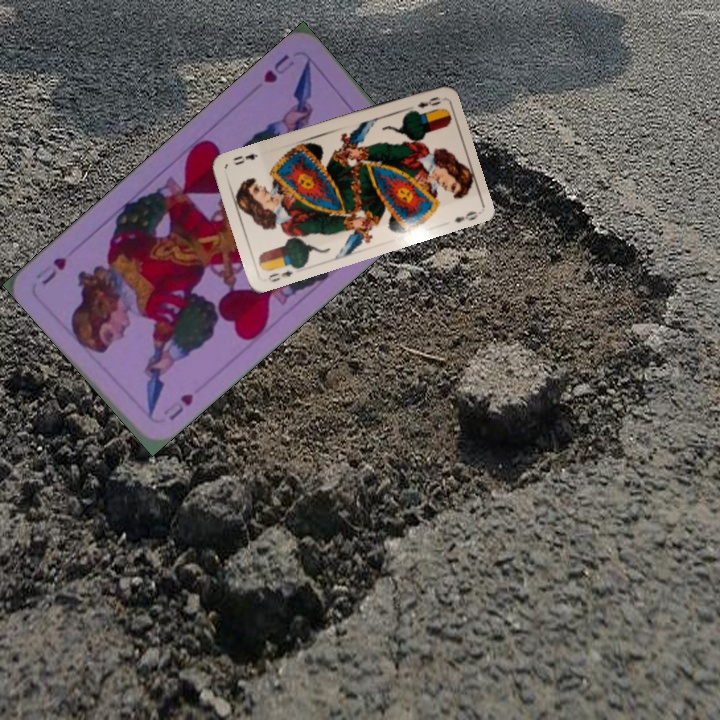EO: (264, 260, 300, 285), (413, 92, 444, 111)
HU: (159, 389, 196, 423), (259, 50, 293, 86)
